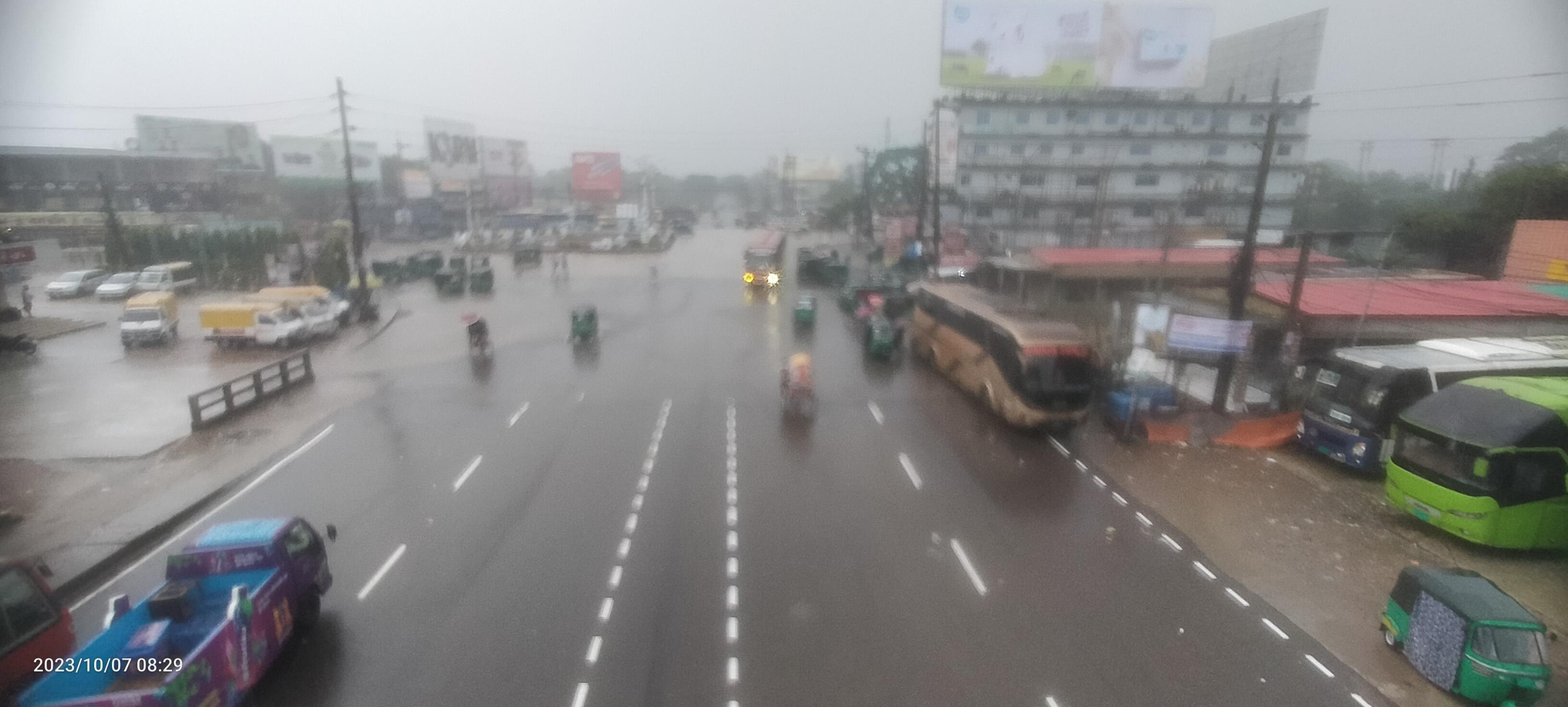Bus: (1330, 355, 1568, 563), (894, 248, 1104, 443)
